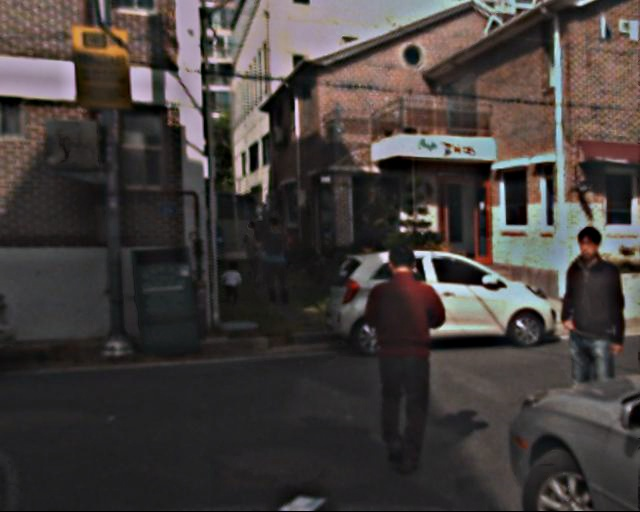person: (543, 226, 638, 456), (354, 247, 446, 474), (258, 215, 296, 307), (239, 217, 269, 286), (223, 258, 243, 307)
